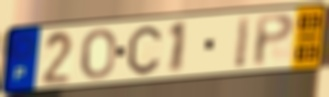1: (166, 19, 190, 76)
2: (39, 29, 76, 86)
C: (126, 24, 164, 77)
I: (233, 14, 254, 71)
O: (80, 27, 117, 81)
P: (252, 11, 297, 69)
